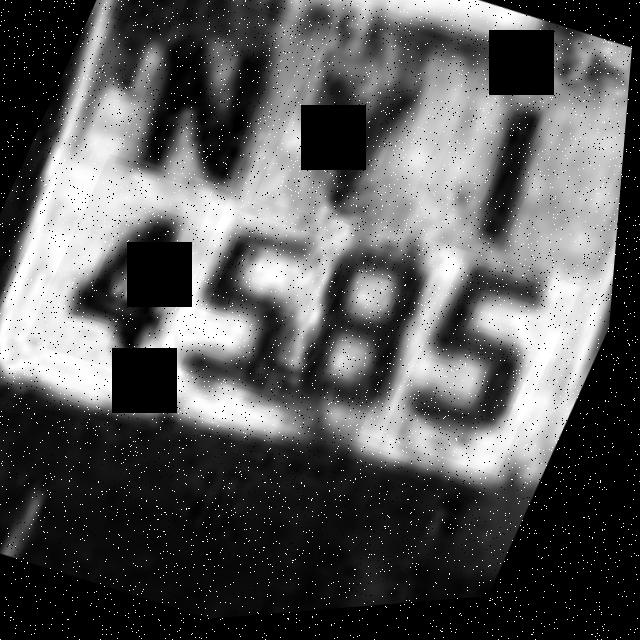4: (28, 148, 239, 391)
5: (364, 243, 591, 494), (142, 197, 353, 420)
8: (259, 211, 474, 462)
N: (253, 13, 491, 267), (114, 0, 319, 214)
Y: (255, 21, 476, 258)
